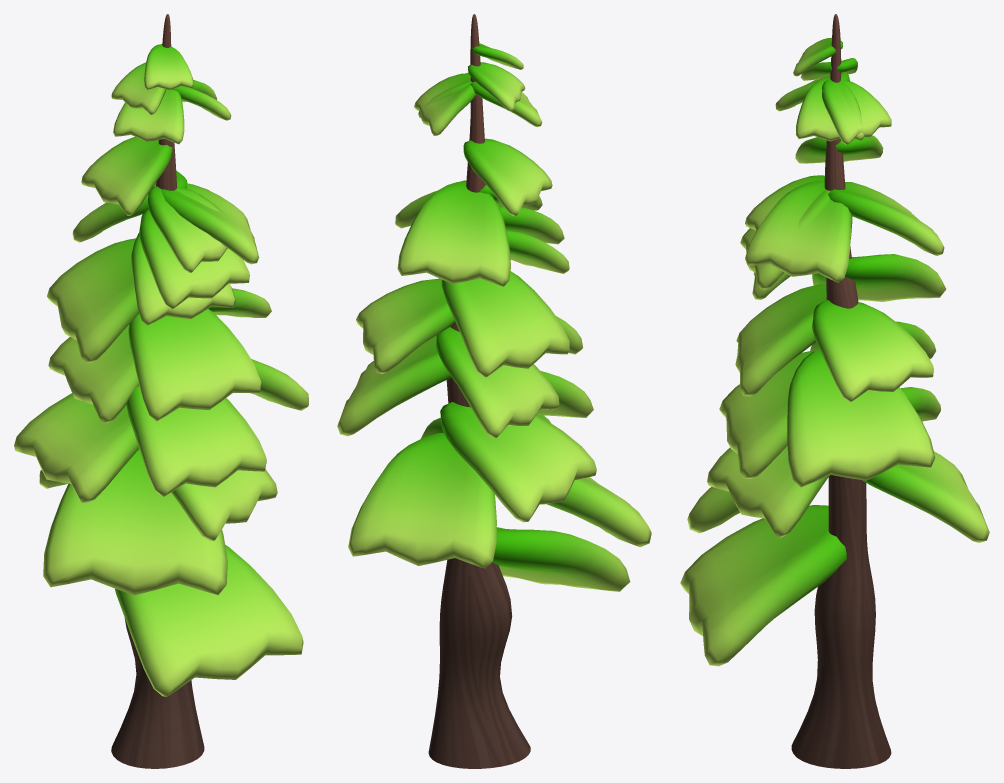
Rendered from arbol_grande.fbx.
3 renders of one model, left to right at view 1: azimuth 30°, elevation 25°; view 2: azimuth 150°, elevation 25°; view 3: azimuth 270°, elevation 25°, orthographic.
Visible parts, largest first — view 1: Arbol_grande_1|Hoja1|Dupli|13, Arbol_grande_1|Hoja1|Dupli|21, Arbol_grande_1|Hoja1|Dupli|7, Arbol_grande_1|Hoja1|Dupli|16, Arbol_grande_1|Hoja1|Dupli|15, Arbol_grande_1, Arbol_grande_1|Hoja1|Dupli|18, Arbol_grande_1|Hoja1|Dupli|12, Arbol_grande_1|Hoja1|Dupli|20, Arbol_grande_1|Hoja1|Dupli|14, Arbol_grande_1|Hoja1|Dupli|2, Arbol_grande_1|Hoja1|Dupli|9 (+9 smaller); view 2: Arbol_grande_1, Arbol_grande_1|Hoja1|Dupli|10, Arbol_grande_1|Hoja1|Dupli|15, Arbol_grande_1|Hoja1|Dupli|6, Arbol_grande_1|Hoja1|Dupli|18, Arbol_grande_1|Hoja1|Dupli|21, Arbol_grande_1|Hoja1|Dupli|12, Arbol_grande_1|Hoja1|Dupli|4, Arbol_grande_1|Hoja1|Dupli|17, Arbol_grande_1|Hoja1|Dupli|14, Arbol_grande_1|Hoja1|Dupli|13, Arbol_grande_1|Hoja1|Dupli|11 (+7 smaller); view 3: Arbol_grande_1, Arbol_grande_1|Hoja1|Dupli|21, Arbol_grande_1|Hoja1|Dupli|17, Arbol_grande_1|Hoja1|Dupli|4, Arbol_grande_1|Hoja1|Dupli|9, Arbol_grande_1|Hoja1|Dupli|7, Arbol_grande_1|Hoja1|Dupli|16, Arbol_grande_1|Hoja1|Dupli|2, Arbol_grande_1|Hoja1|Dupli|10, Arbol_grande_1|Hoja1|Dupli|18, Arbol_grande_1|Hoja1|Dupli|6, Arbol_grande_1|Hoja1|Dupli|11 (+10 smaller).
Boxes of the visible parts, x1=… form: Arbol_grande_1|Hoja1|Dupli|13: x1=43, y1=449, x2=227, y2=595; Arbol_grande_1|Hoja1|Dupli|21: x1=115, y1=544, x2=303, y2=697; Arbol_grande_1|Hoja1|Dupli|7: x1=128, y1=308, x2=261, y2=420; Arbol_grande_1|Hoja1|Dupli|16: x1=126, y1=386, x2=266, y2=496; Arbol_grande_1|Hoja1|Dupli|15: x1=14, y1=393, x2=138, y2=502; Arbol_grande_1: x1=111, y1=14, x2=204, y2=768; Arbol_grande_1|Hoja1|Dupli|18: x1=47, y1=238, x2=139, y2=362; Arbol_grande_1|Hoja1|Dupli|12: x1=48, y1=325, x2=139, y2=423; Arbol_grande_1|Hoja1|Dupli|20: x1=139, y1=209, x2=249, y2=309; Arbol_grande_1|Hoja1|Dupli|14: x1=81, y1=137, x2=172, y2=215; Arbol_grande_1|Hoja1|Dupli|2: x1=171, y1=469, x2=277, y2=540; Arbol_grande_1|Hoja1|Dupli|9: x1=161, y1=183, x2=259, y2=264; Arbol_grande_1: x1=428, y1=14, x2=530, y2=768; Arbol_grande_1|Hoja1|Dupli|10: x1=348, y1=433, x2=496, y2=568; Arbol_grande_1|Hoja1|Dupli|15: x1=440, y1=402, x2=596, y2=522; Arbol_grande_1|Hoja1|Dupli|6: x1=397, y1=181, x2=510, y2=286; Arbol_grande_1|Hoja1|Dupli|18: x1=441, y1=271, x2=569, y2=377; Arbol_grande_1|Hoja1|Dupli|21: x1=492, y1=527, x2=630, y2=591; Arbol_grande_1|Hoja1|Dupli|12: x1=436, y1=327, x2=559, y2=437; Arbol_grande_1|Hoja1|Dupli|4: x1=356, y1=278, x2=455, y2=373; Arbol_grande_1|Hoja1|Dupli|17: x1=337, y1=335, x2=450, y2=436; Arbol_grande_1|Hoja1|Dupli|14: x1=463, y1=138, x2=552, y2=215; Arbol_grande_1|Hoja1|Dupli|13: x1=547, y1=477, x2=651, y2=547; Arbol_grande_1|Hoja1|Dupli|11: x1=414, y1=73, x2=476, y2=135; Arbol_grande_1: x1=791, y1=14, x2=891, y2=768; Arbol_grande_1|Hoja1|Dupli|21: x1=680, y1=505, x2=846, y2=666; Arbol_grande_1|Hoja1|Dupli|17: x1=787, y1=350, x2=935, y2=487; Arbol_grande_1|Hoja1|Dupli|4: x1=812, y1=300, x2=933, y2=401; Arbol_grande_1|Hoja1|Dupli|9: x1=745, y1=180, x2=852, y2=282; Arbol_grande_1|Hoja1|Dupli|7: x1=735, y1=284, x2=826, y2=396; Arbol_grande_1|Hoja1|Dupli|16: x1=719, y1=350, x2=814, y2=478; Arbol_grande_1|Hoja1|Dupli|2: x1=707, y1=446, x2=829, y2=537; Arbol_grande_1|Hoja1|Dupli|10: x1=862, y1=451, x2=989, y2=542; Arbol_grande_1|Hoja1|Dupli|18: x1=812, y1=254, x2=946, y2=301; Arbol_grande_1|Hoja1|Dupli|6: x1=828, y1=182, x2=944, y2=255; Arbol_grande_1|Hoja1|Dupli|11: x1=822, y1=79, x2=891, y2=144.
Size of the model in its own units: 488 by 1247 by 474.
